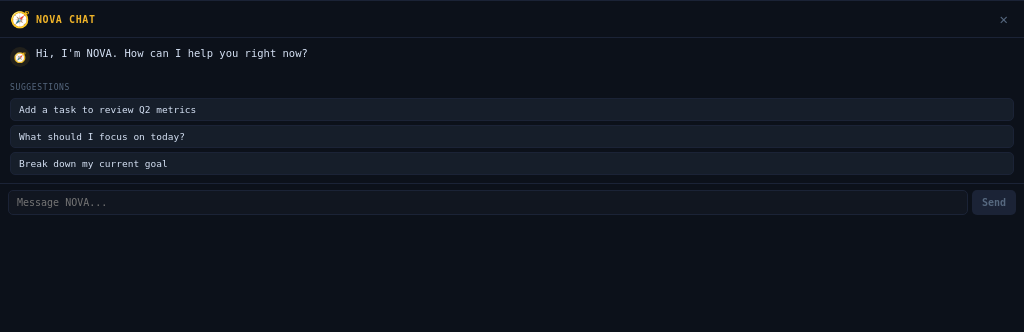
Test: NovaCompassChat › handleCancelAction › cancels pending action and shows cancellation message
The width and height of the screenshot is (1024, 332).
Type "add a task" into the field with placeholder "Message NOVA..." at (488, 202), box [8,190,968,215]
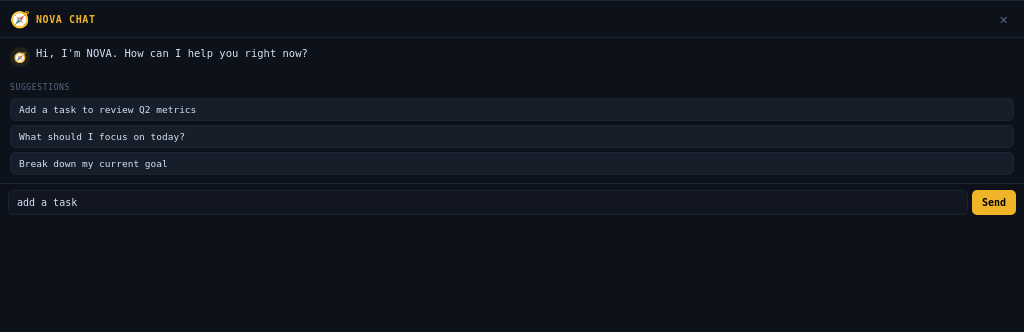
Click the button "Send" at (994, 202), box [972,190,1016,215]
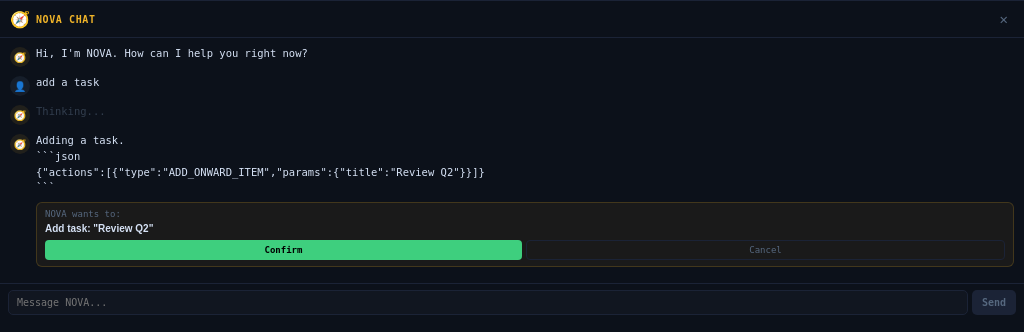
Result: the button "Cancel" is shown
Click the button "Cancel" at (766, 250), box [526,240,1005,260]
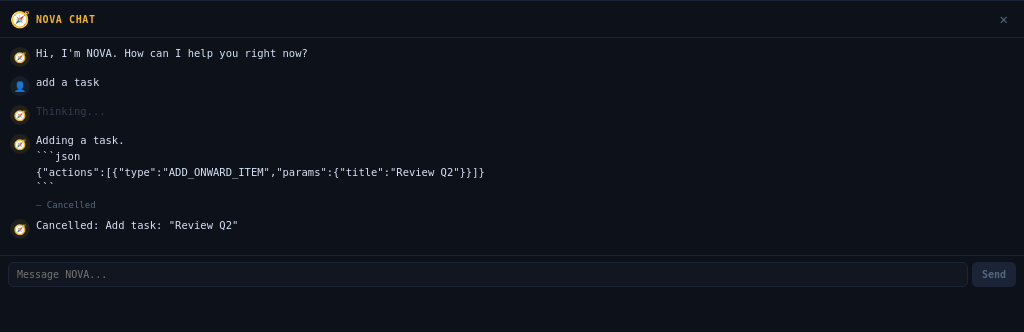
Result: the text "— Cancelled" is shown at [36,200,96,210]
